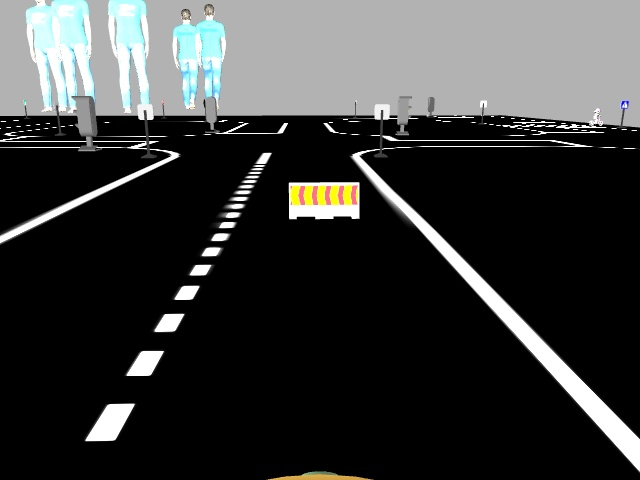ClosedRoadStand: (288, 183, 359, 218)
